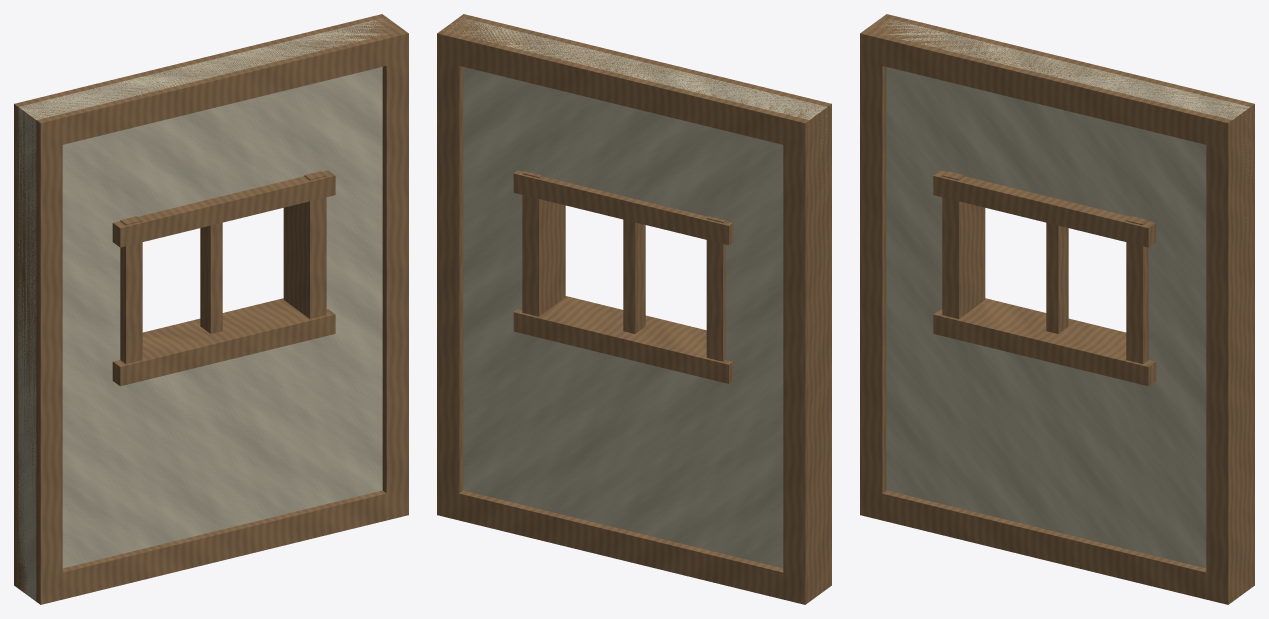
File: wall_window_2m.glb
The picture shows the model from 3 angles, left to right: view 1: azimuth 30°, elevation 25°; view 2: azimuth 150°, elevation 25°; view 3: azimuth 330°, elevation 25°; orthographic projection.
Visible parts, largest first — view 1: wall_window_2m; view 2: wall_window_2m; view 3: wall_window_2m.
Part boxes in pixels (x1,y1,x2,y2): wall_window_2m: (14,14,408,604); wall_window_2m: (437,14,831,604); wall_window_2m: (860,14,1254,604).
Bounding box in the file's own units: 2 × 2.5 × 0.28.
Materials: 2 (2 with a texture image).
